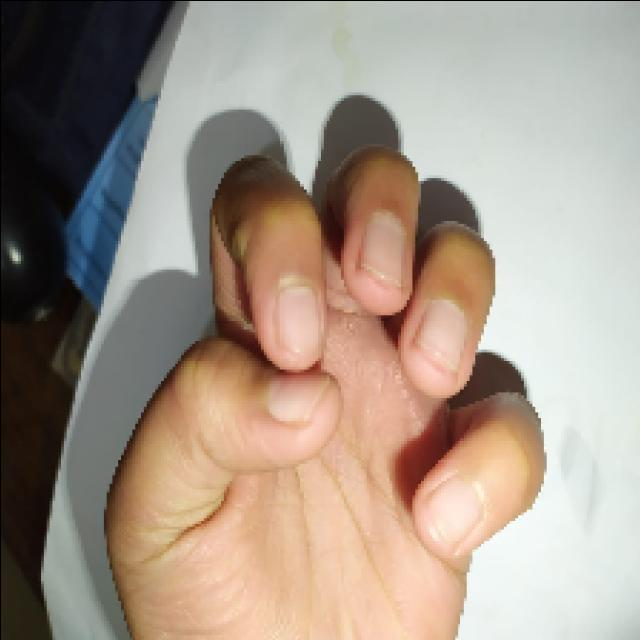Nail: (413, 476, 480, 544), (415, 298, 466, 371), (359, 209, 403, 286), (274, 286, 320, 356), (266, 373, 329, 422)
